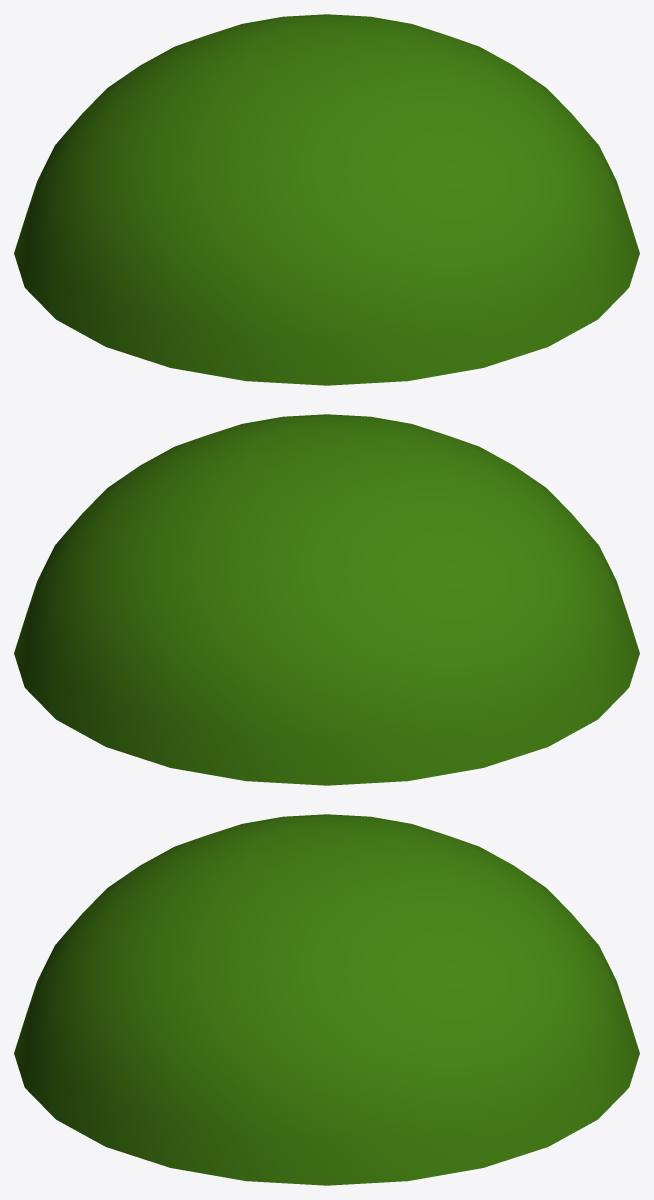
File: SM_huegel_01.fbx
3 renders of one model, top to bottom at view 1: azimuth 30°, elevation 25°; view 2: azimuth 150°, elevation 25°; view 3: azimuth 270°, elevation 25°, orthographic.
Visible parts, largest first — view 1: huegel_01.001; view 2: huegel_01.001; view 3: huegel_01.001.
Part boxes in pixels (x1,y1,x2,y2): huegel_01.001: [14, 14, 639, 385]; huegel_01.001: [14, 414, 639, 785]; huegel_01.001: [14, 814, 639, 1185].
Bounding box in the file's own units: 338 × 121 × 338.
